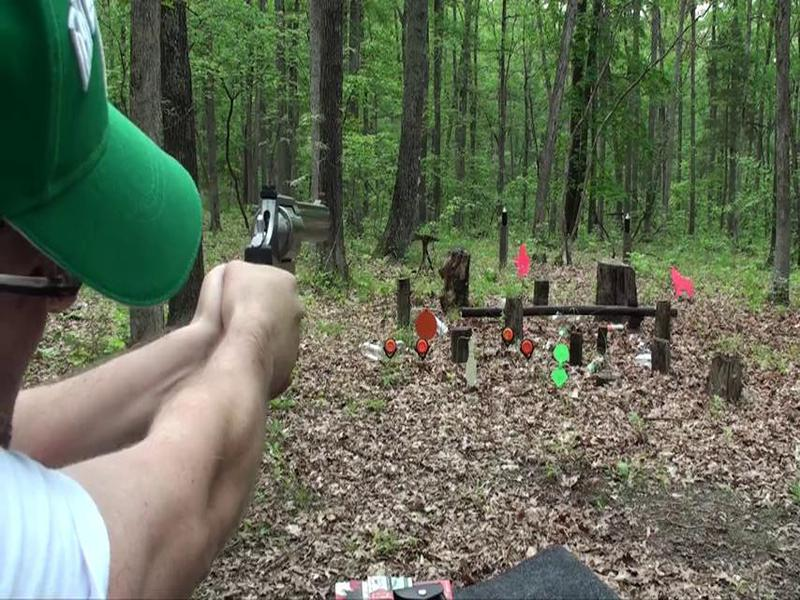Revolver: (239, 174, 339, 284)
